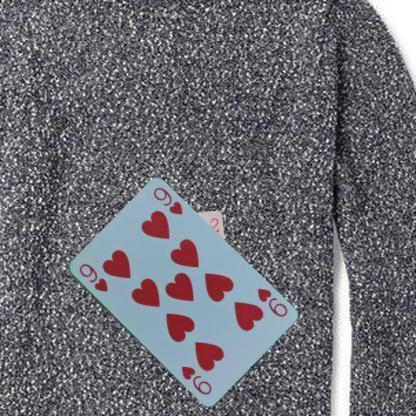9h: (76, 260, 109, 294), (254, 286, 289, 318)
